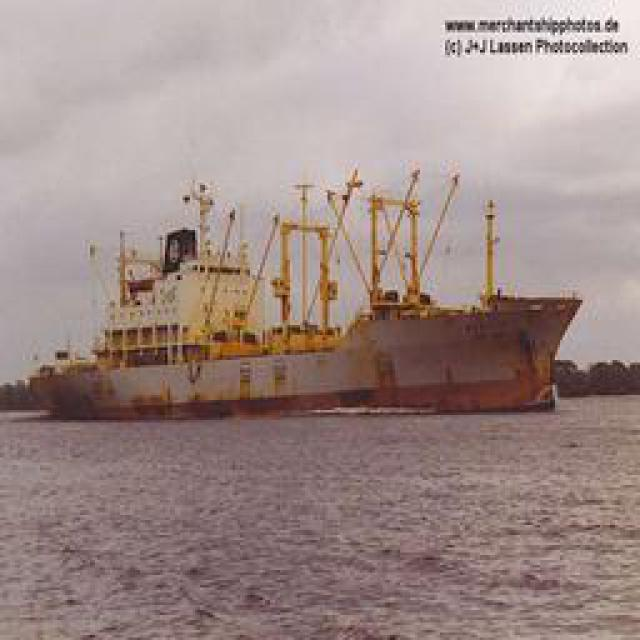Ship: (28, 156, 463, 419)
